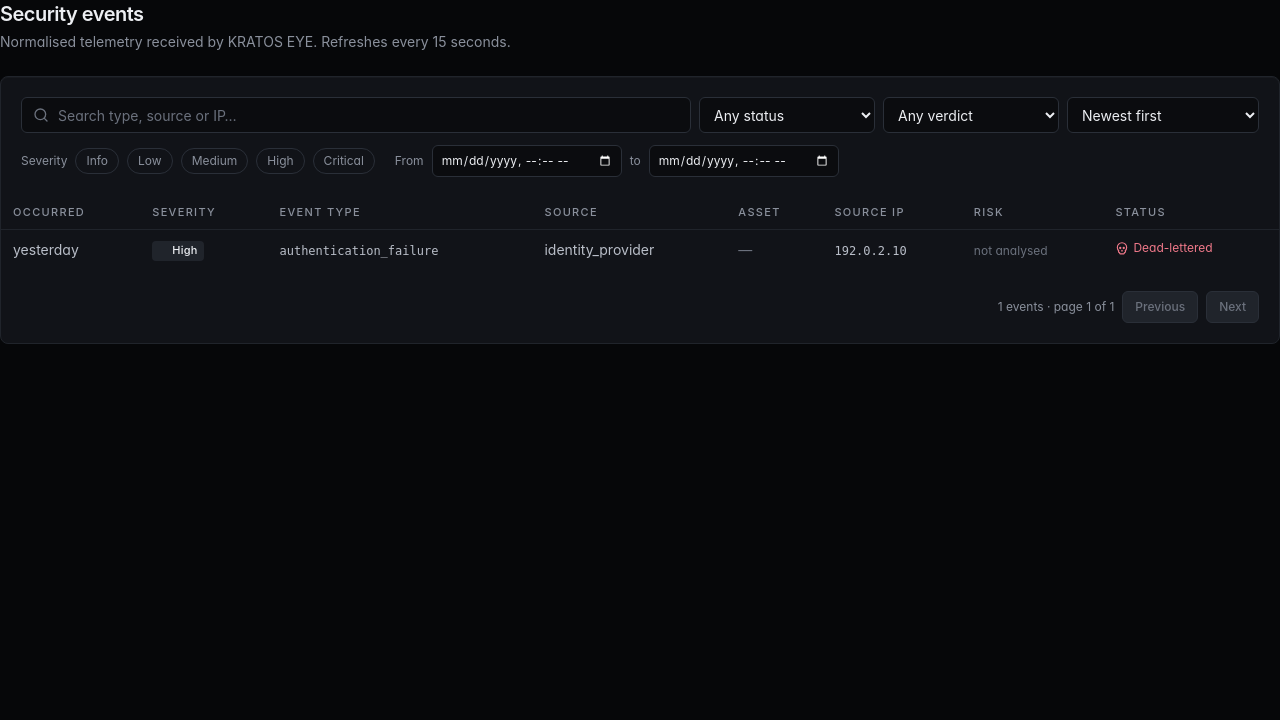
Test: EventsPage › opens the detail drawer and offers replay only to roles that may replay
Click the text "authentication_failure".
click(359, 251)  # box [280,244,438,258]
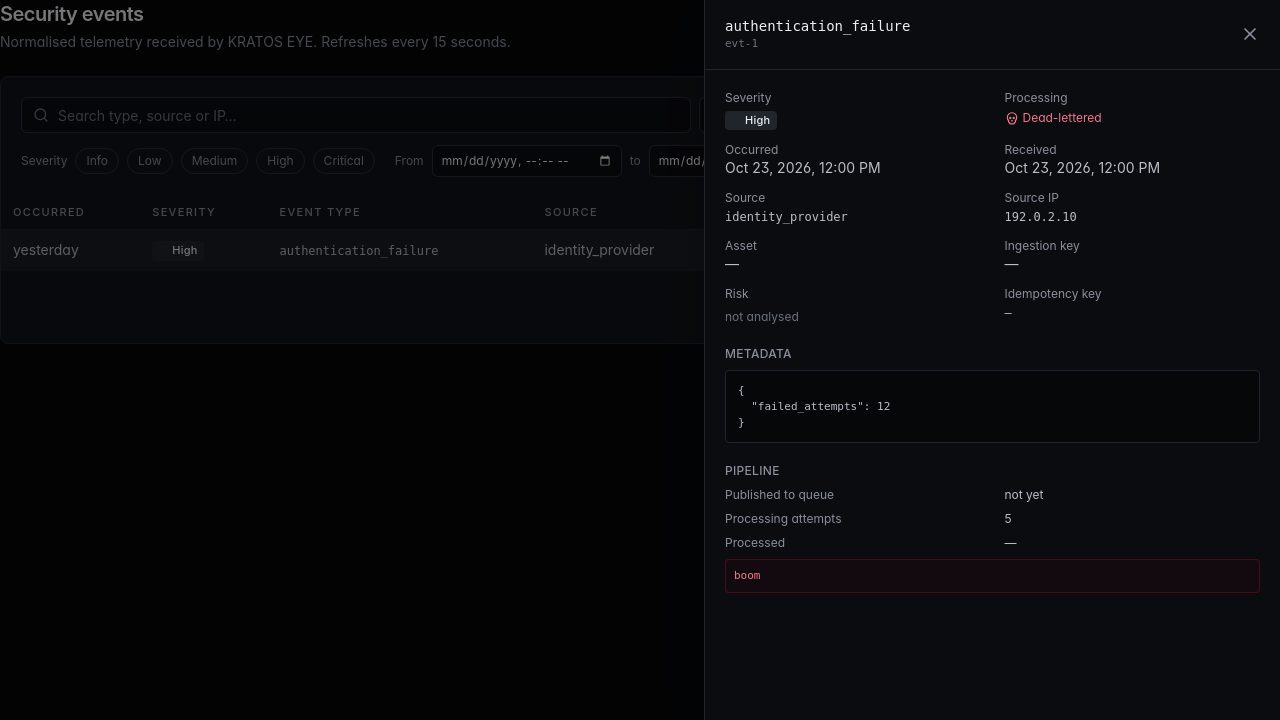
Expected: the text "boom" is shown, [725,560,1260,593]
